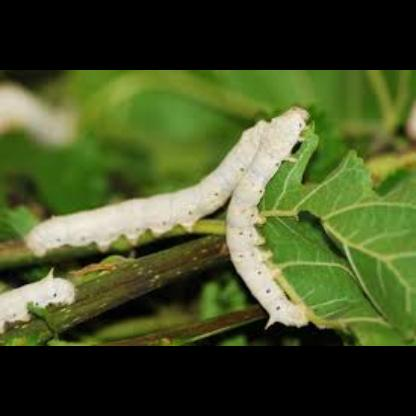agujero: (302, 132, 360, 188)
oruga: (25, 115, 270, 263), (221, 108, 311, 328), (0, 268, 88, 326)
